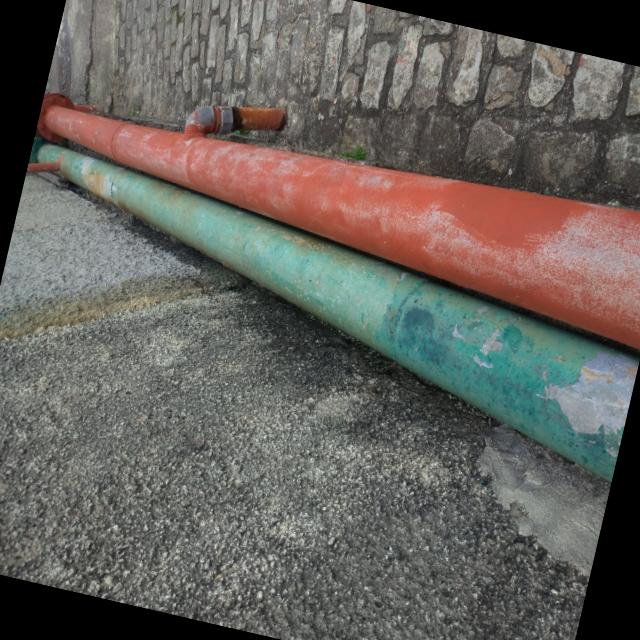gas: (28, 136, 639, 479), (44, 102, 640, 348), (179, 104, 282, 133)
